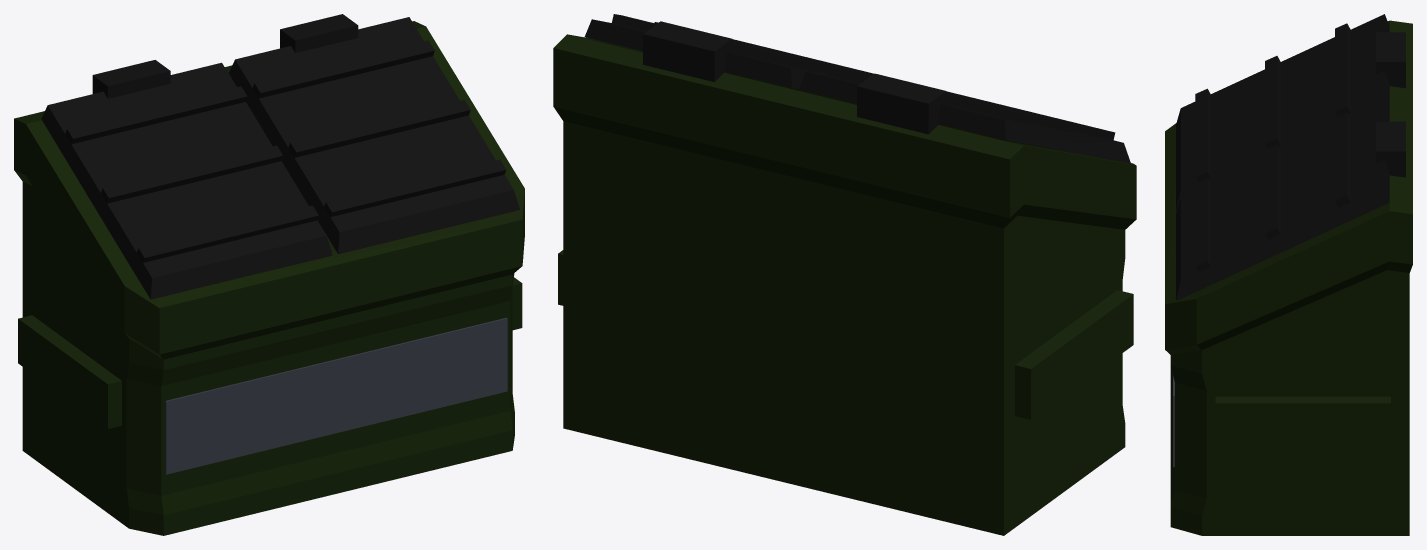
Rendered from Dumpster.obj.
3 views of the same model, side by side, from view 1: azimuth 30°, elevation 25°; view 2: azimuth 150°, elevation 25°; view 3: azimuth 270°, elevation 25° (orthographic). The views are drawn at different scales.
Parts seen in each view (by area): view 1: TrashContainer_1, TrashContainer, TrashContainer_2; view 2: TrashContainer_1, TrashContainer; view 3: TrashContainer_1, TrashContainer.
Part boxes in pixels (bbox=[...]): TrashContainer_1: bbox=[14, 21, 524, 535]; TrashContainer: bbox=[41, 14, 519, 299]; TrashContainer_2: bbox=[165, 317, 507, 474]; TrashContainer_1: bbox=[553, 34, 1136, 535]; TrashContainer: bbox=[584, 14, 1130, 163]; TrashContainer_1: bbox=[1165, 20, 1412, 535]; TrashContainer: bbox=[1176, 14, 1405, 300].
Size of the model in its own units: 1.71 by 1.42 by 0.9069.
